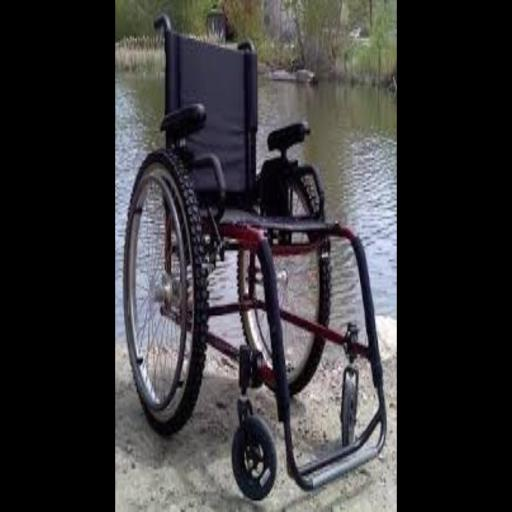cadeira_de_rodas: (122, 14, 389, 501)
